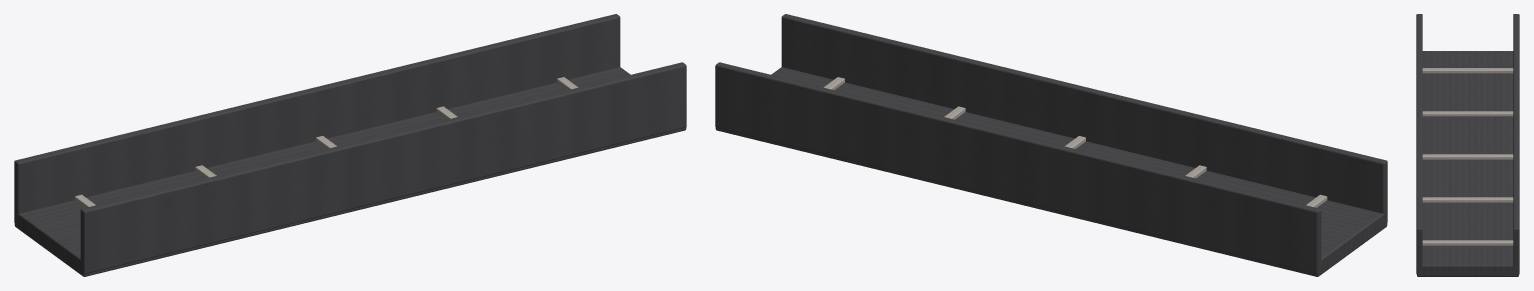
The model's file is cable_tray.glb.
3 renders of one model, left to right at view 1: azimuth 30°, elevation 25°; view 2: azimuth 150°, elevation 25°; view 3: azimuth 270°, elevation 25°, orthographic. The views are drawn at different scales.
Parts seen in each view (by area): view 1: tray_side, tray_side.001, tray_bottom; view 2: tray_side.001, tray_side, tray_bottom; view 3: tray_bottom, tray_side.001, tray_side, cross_support.002, cross_support.003, cross_support.004, cross_support, cross_support.001.
Boxes of the visible parts, x1=… form: tray_side: x1=80, y1=62, x2=686, y2=273; tray_side.001: x1=14, y1=14, x2=620, y2=222; tray_bottom: x1=14, y1=67, x2=686, y2=276; tray_side.001: x1=715, y1=62, x2=1321, y2=273; tray_side: x1=781, y1=14, x2=1387, y2=222; tray_bottom: x1=715, y1=67, x2=1387, y2=276; tray_bottom: x1=1417, y1=51, x2=1518, y2=276; tray_side.001: x1=1513, y1=14, x2=1519, y2=274; tray_side: x1=1416, y1=14, x2=1422, y2=274; cross_support.002: x1=1422, y1=154, x2=1513, y2=159; cross_support.003: x1=1422, y1=197, x2=1513, y2=202; cross_support.004: x1=1422, y1=240, x2=1513, y2=245; cross_support: x1=1422, y1=68, x2=1513, y2=73; cross_support.001: x1=1422, y1=111, x2=1513, y2=116.
Size of the model in its own units: 2 by 0.21 by 0.405.
2 materials, 2 textured.
